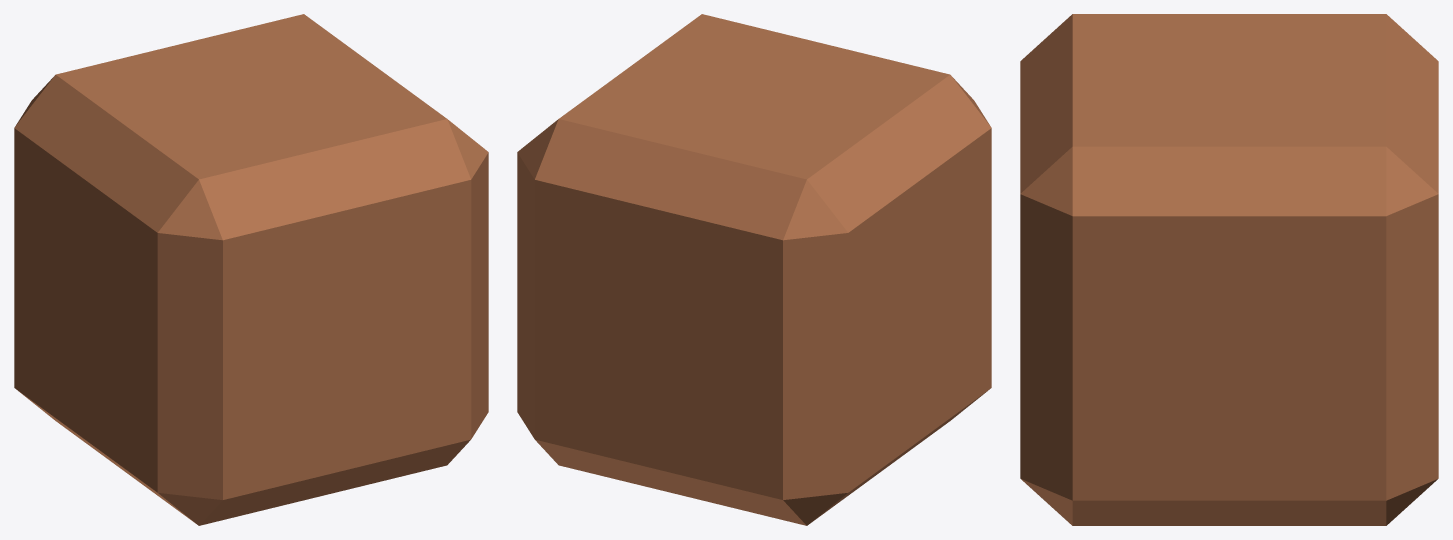
File: Brown.fbx
The picture shows the model from 3 angles, left to right: view 1: azimuth 30°, elevation 25°; view 2: azimuth 150°, elevation 25°; view 3: azimuth 270°, elevation 25°; orthographic projection. The views are drawn at different scales.
Parts seen in each view (by area): view 1: Brown; view 2: Brown; view 3: Brown.
Boxes of the visible parts, x1,y1,x2,y2 form: Brown: (14, 14, 488, 525); Brown: (517, 14, 991, 525); Brown: (1020, 14, 1438, 525).
Size of the model in its own units: 200 by 200 by 200.
